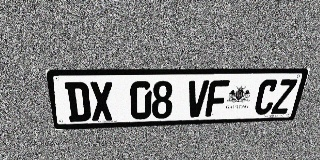0: (130, 81, 152, 120)
8: (151, 81, 174, 119)
C: (253, 79, 279, 115)
D: (64, 82, 91, 122)
F: (205, 80, 230, 117)
V: (185, 80, 209, 118)
X: (89, 81, 114, 121)
Z: (270, 79, 298, 114)
